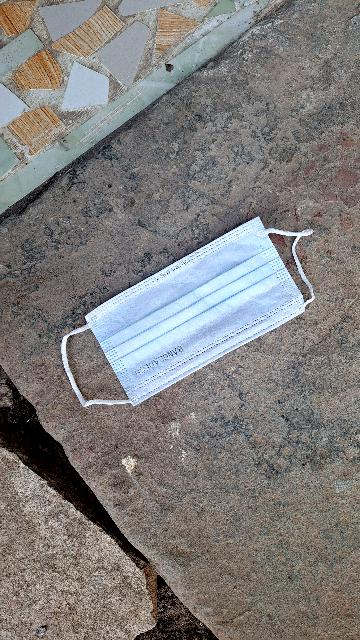mask: (79, 197, 321, 414)
